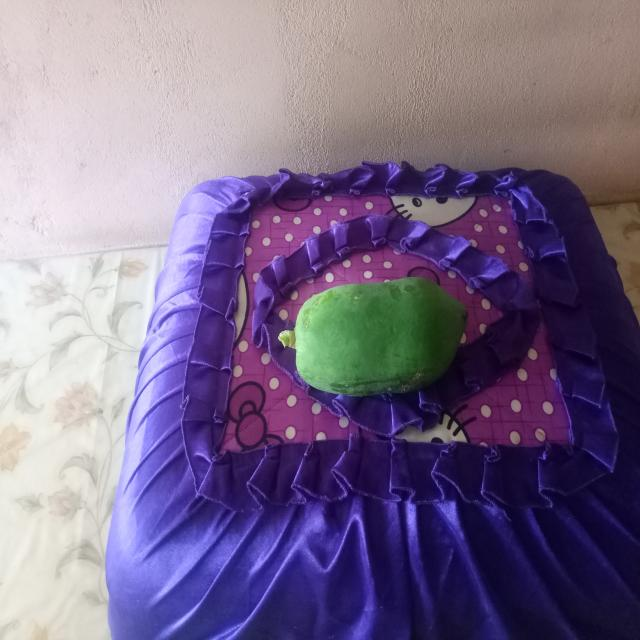Pepaya unrippen: (274, 269, 470, 412)
